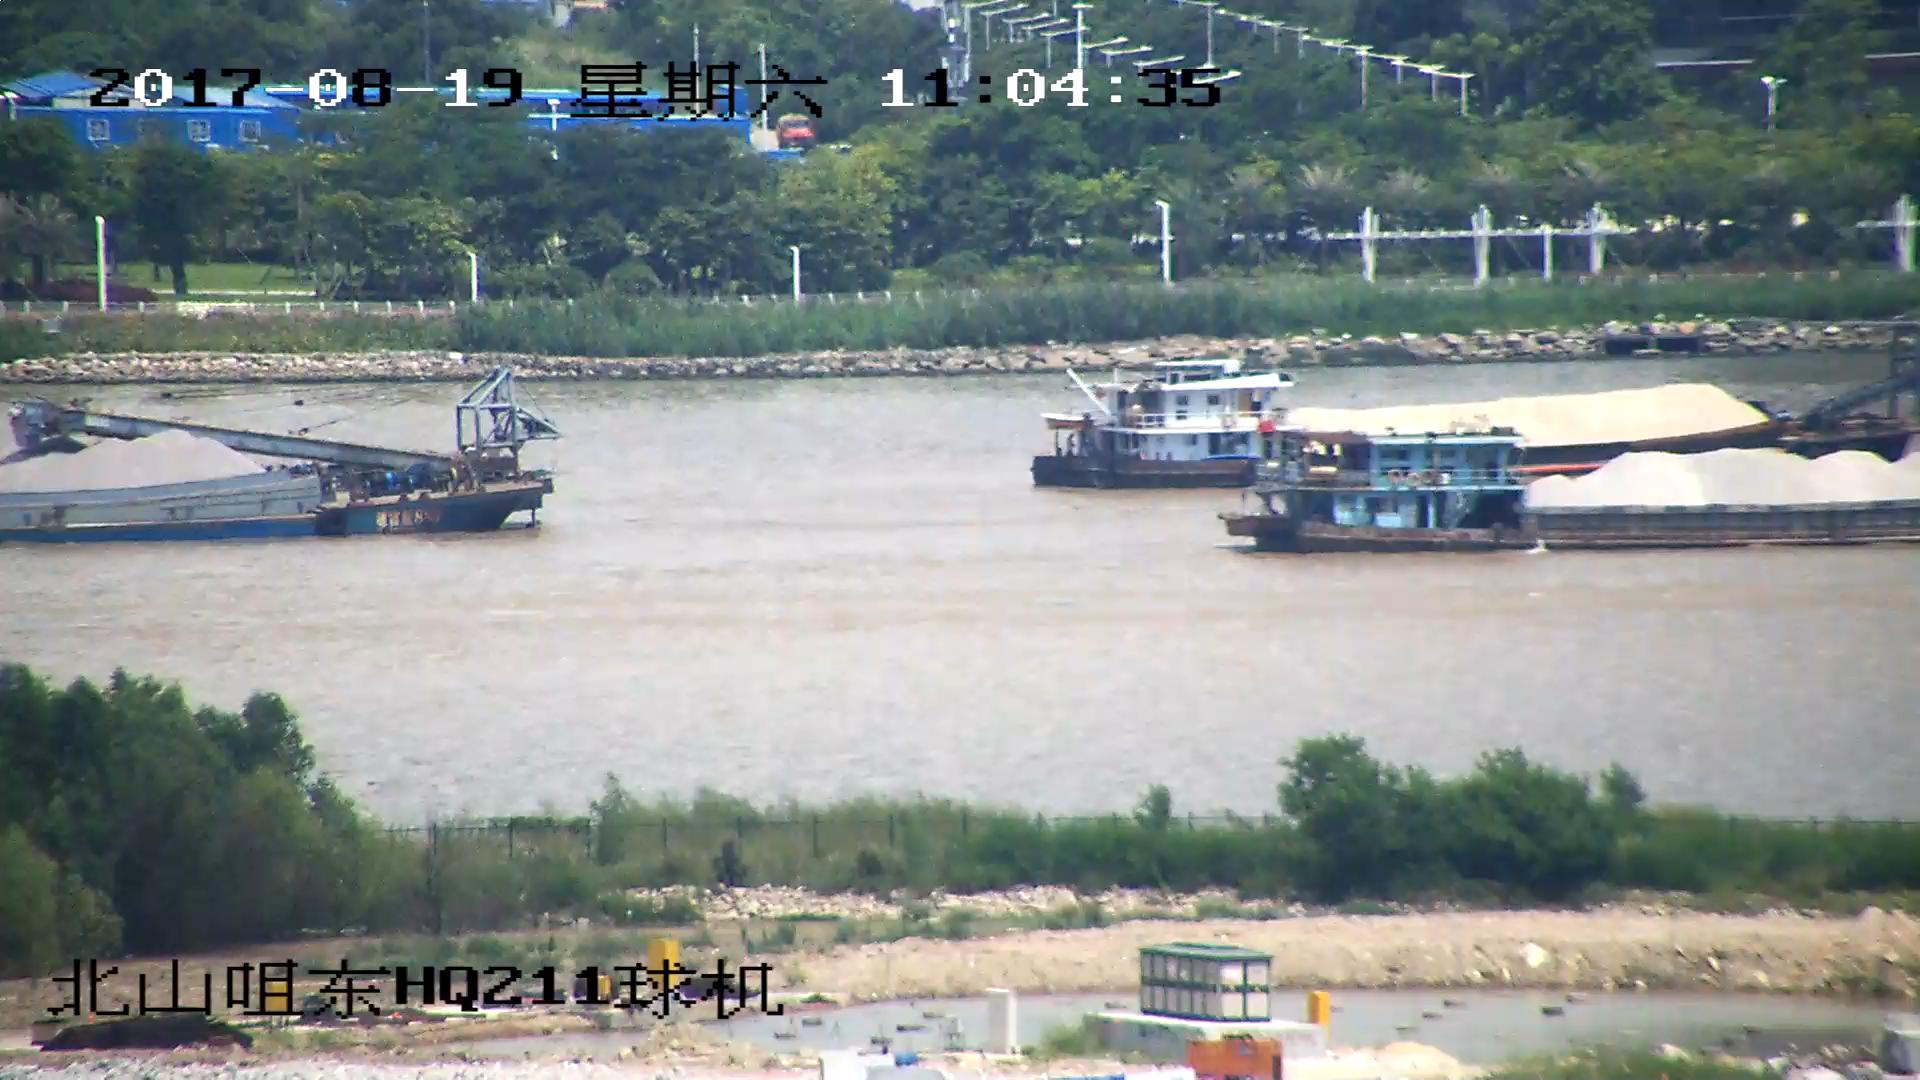ore carrier: (1034, 333, 1920, 487), (1, 376, 557, 543), (1232, 433, 1920, 551)
